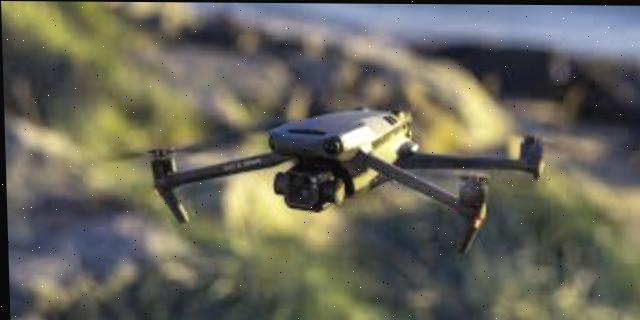drone: (118, 81, 572, 253)
